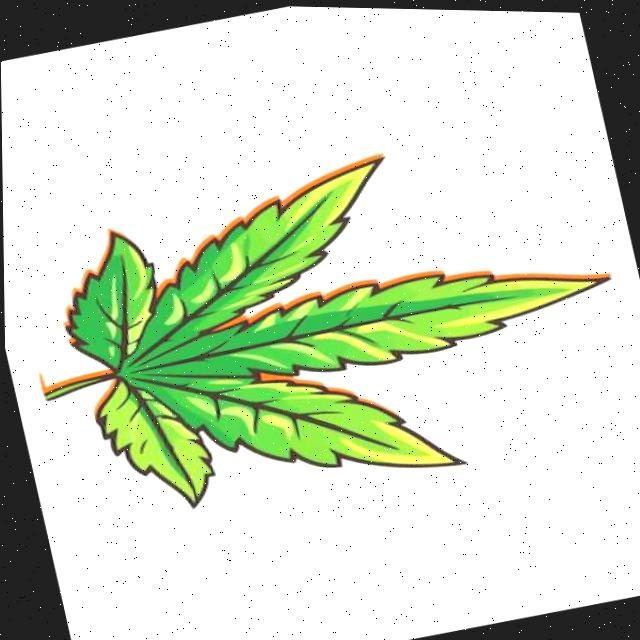cannabis: (42, 152, 609, 509)
